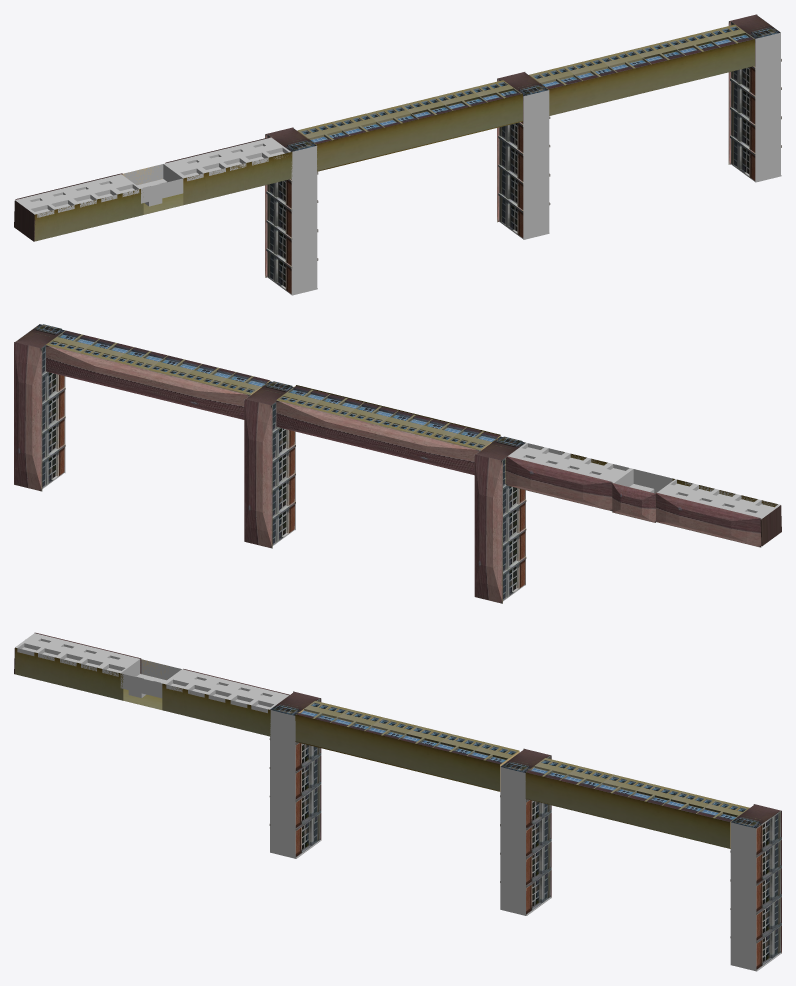
3 views of the same model, one above another, from view 1: azimuth 30°, elevation 25°; view 2: azimuth 150°, elevation 25°; view 3: azimuth 330°, elevation 25° (orthographic).
Visible parts, largest first — view 1: Plane, sarı bina zemin.004, sarı bina zemin, sarı bina ön cephe, sarı bina ön cephe.004, 1.bina zemin.001, 1.bina zemin.002, 1.bina zemin, sarı bina zemin.006, sarı bina zemin.007, sol duvar.001, sol duvar (+5 smaller); view 2: çatı sarı bina.004, çatı sarı bina, Plane, 1.bina çatı.002, 1.bina çatı, 1.bina çatı.001, sarı bina ön cephe.004, sarı bina ön cephe, 1.bina çatı.004, 1.bina çatı.005, sol duvar.001, sol duvar (+6 smaller); view 3: Plane, sarı bina zemin, sarı bina zemin.004, sarı bina ön cephe, sarı bina ön cephe.004, 1.bina zemin, 1.bina zemin.001, 1.bina zemin.002, sağ duvar, sarı bina zemin.007, sağ duvar.002, sarı bina zemin.006 (+4 smaller).
Part boxes in pixels (x1,y1,x2,y2): Plane: (15, 137, 290, 217); sarı bina zemin.004: (317, 94, 522, 170); sarı bina zemin: (549, 39, 754, 115); sarı bina ön cephe: (529, 24, 754, 88); sarı bina ön cephe.004: (297, 80, 521, 144); 1.bina zemin.001: (523, 90, 549, 239); 1.bina zemin.002: (291, 146, 317, 295); 1.bina zemin: (755, 32, 780, 182); sarı bina zemin.006: (183, 152, 292, 205); sarı bina zemin.007: (34, 189, 143, 241); sol duvar.001: (498, 79, 523, 237); sol duvar: (730, 22, 755, 180); çatı sarı bina.004: (276, 400, 480, 475); çatı sarı bina: (46, 345, 250, 419); Plane: (508, 442, 780, 519); 1.bina çatı.002: (474, 454, 502, 603); 1.bina çatı: (14, 342, 42, 491); 1.bina çatı.001: (244, 399, 272, 548); sarı bina ön cephe.004: (276, 386, 499, 449); sarı bina ön cephe: (46, 330, 269, 394); 1.bina çatı.004: (506, 456, 612, 511); 1.bina çatı.005: (654, 492, 761, 547); sol duvar.001: (271, 402, 295, 544); sol duvar: (41, 345, 65, 487); Plane: (15, 633, 288, 713); sarı bina zemin: (525, 772, 730, 848); sarı bina zemin.004: (295, 714, 499, 790); sarı bina ön cephe: (526, 758, 749, 822); sarı bina ön cephe.004: (296, 701, 519, 764); 1.bina zemin: (730, 822, 756, 971); 1.bina zemin.001: (500, 767, 525, 915); 1.bina zemin.002: (270, 710, 295, 857); sağ duvar: (756, 811, 781, 970); sarı bina zemin.007: (15, 648, 123, 700); sağ duvar.002: (295, 698, 321, 857); sarı bina zemin.006: (162, 683, 270, 736).
Bounding box in the file's own units: 8714 × 1630 × 554.
